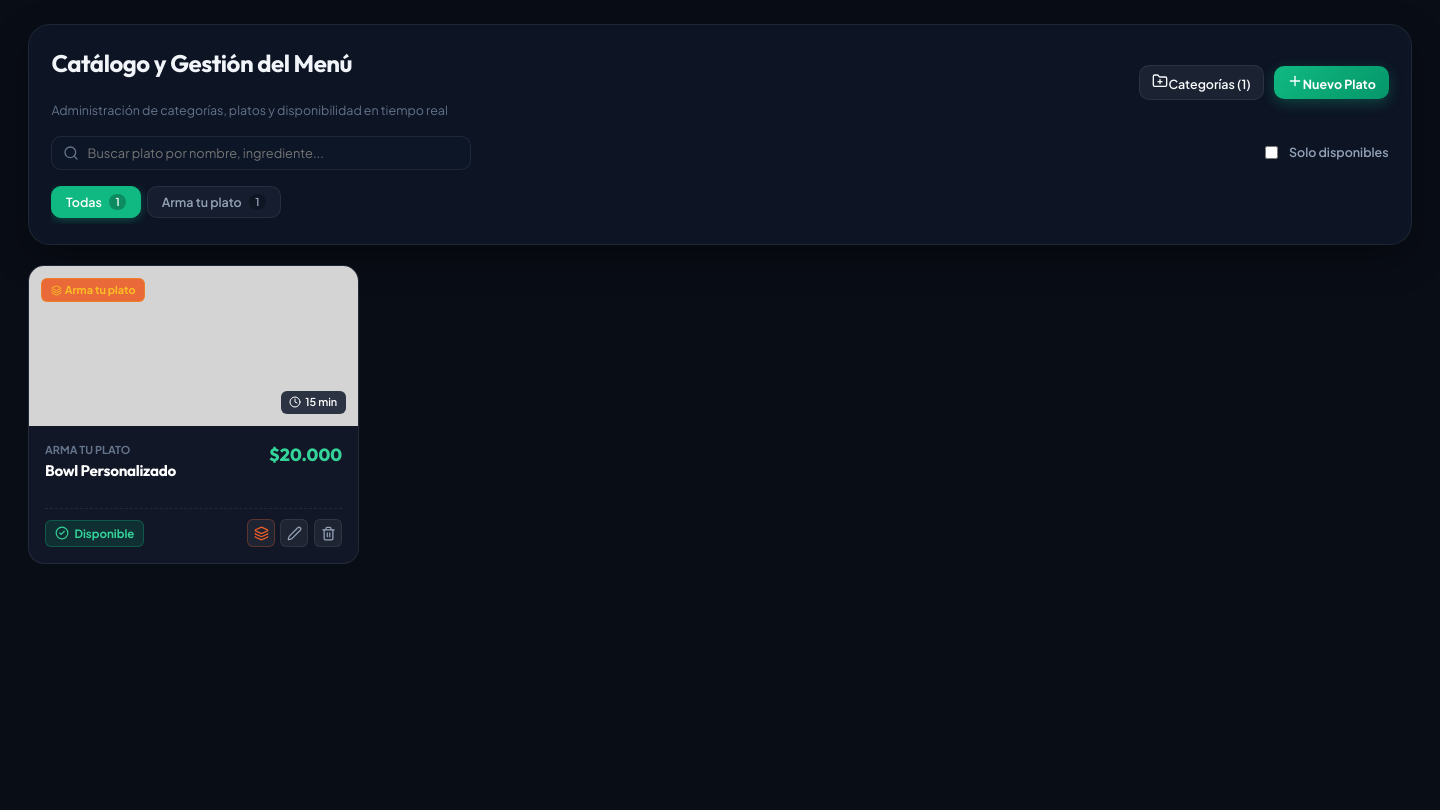
Test: Flujo de Menú en frontend-restaurante › debe mostrar badge de Arma tu plato cuando el plato es personalizable y permitir abrir el EditorPasos
Expected: the heading "Bowl Personalizado" is shown, [45,460,176,483]
# Abrir EditorPasos con el botón de constructor
Click the button titled "Configurar Pasos e Ingredientes del Constructor" at (261, 534), box [247,520,275,548]
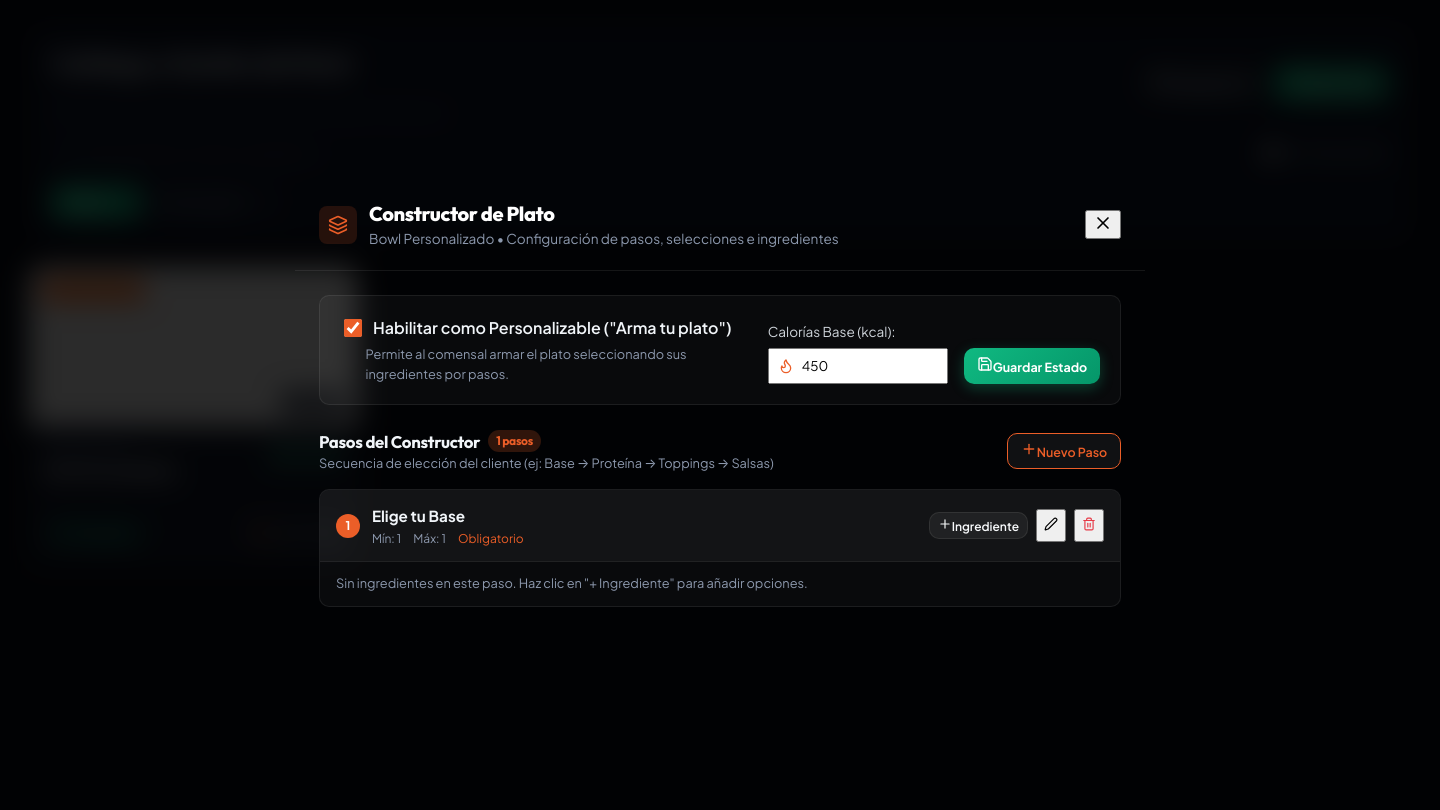
Expected: the heading "Constructor de Plato" is shown, [369,201,554,226]
Expected: the text "Configuración de pasos, selecciones e ingredientes" is shown, [494,230,839,247]
